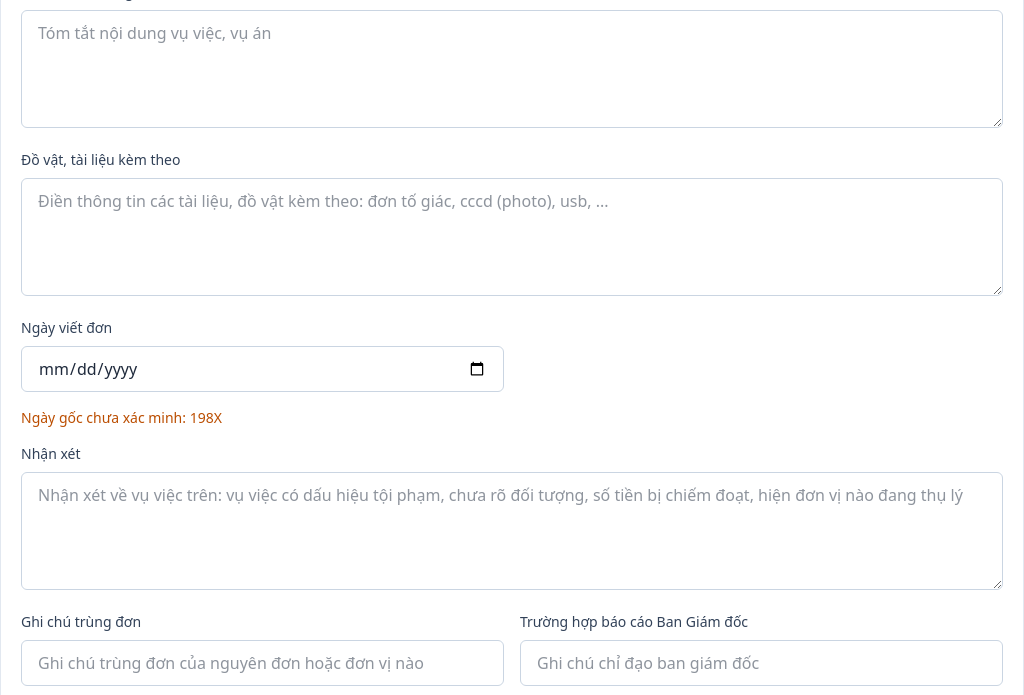
it: LegacyTabBody › shows the original partial date beside the blank native input until the date is corrected
(page scrolled)
Check: the text with test id "legacy-date-source-ngayVietDon" shows "198X", box [190,408,222,427]
Type "1981-10-05" into the date field labelled "Ngày viết đơn". click: (262, 369)
box: [21,346,504,392]
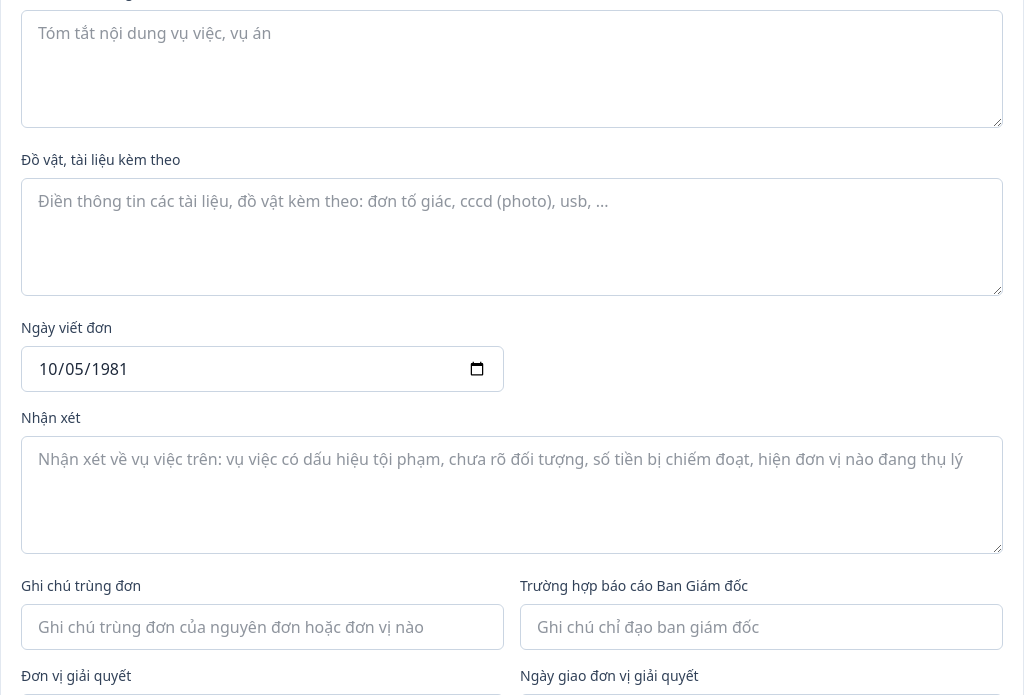
Check: the text with test id "legacy-date-source-ngayVietDon" is gone
